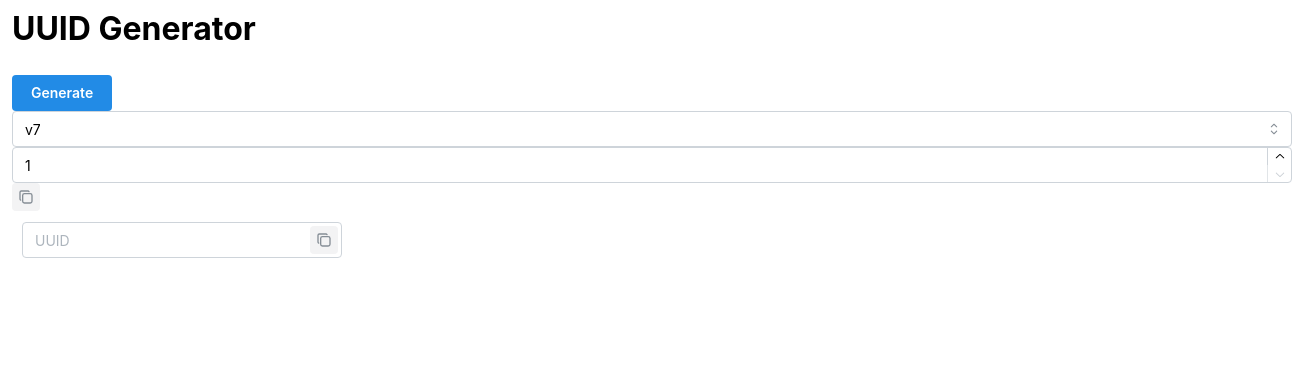
Scenario: UUIDGenerator › updates count and shows correct number of empty fields
Replace the text in the field with test id "count-input" with "3": coordinates (652, 166) [12,148,1292,184]
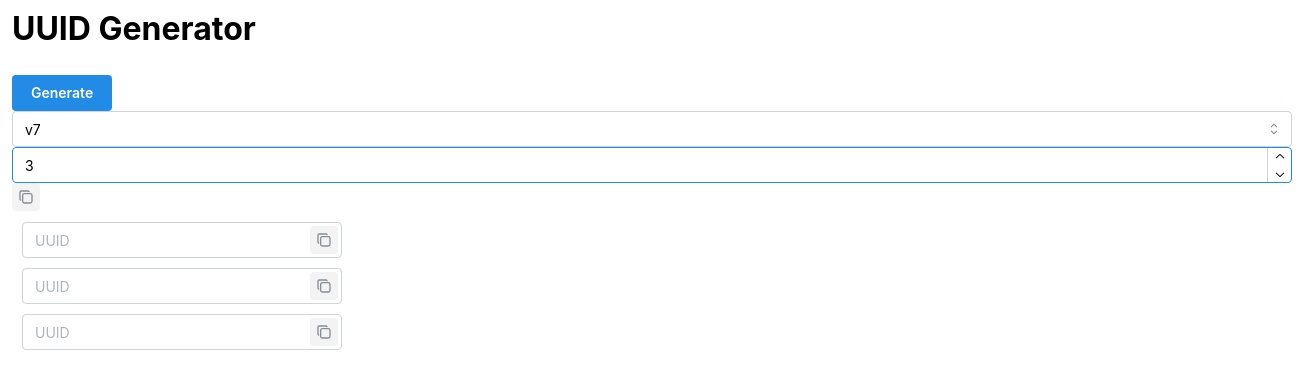
Now the number of fields with placeholder "UUID" is 3, box [22,222,342,258]; [22,268,342,304]; [22,314,342,350]
